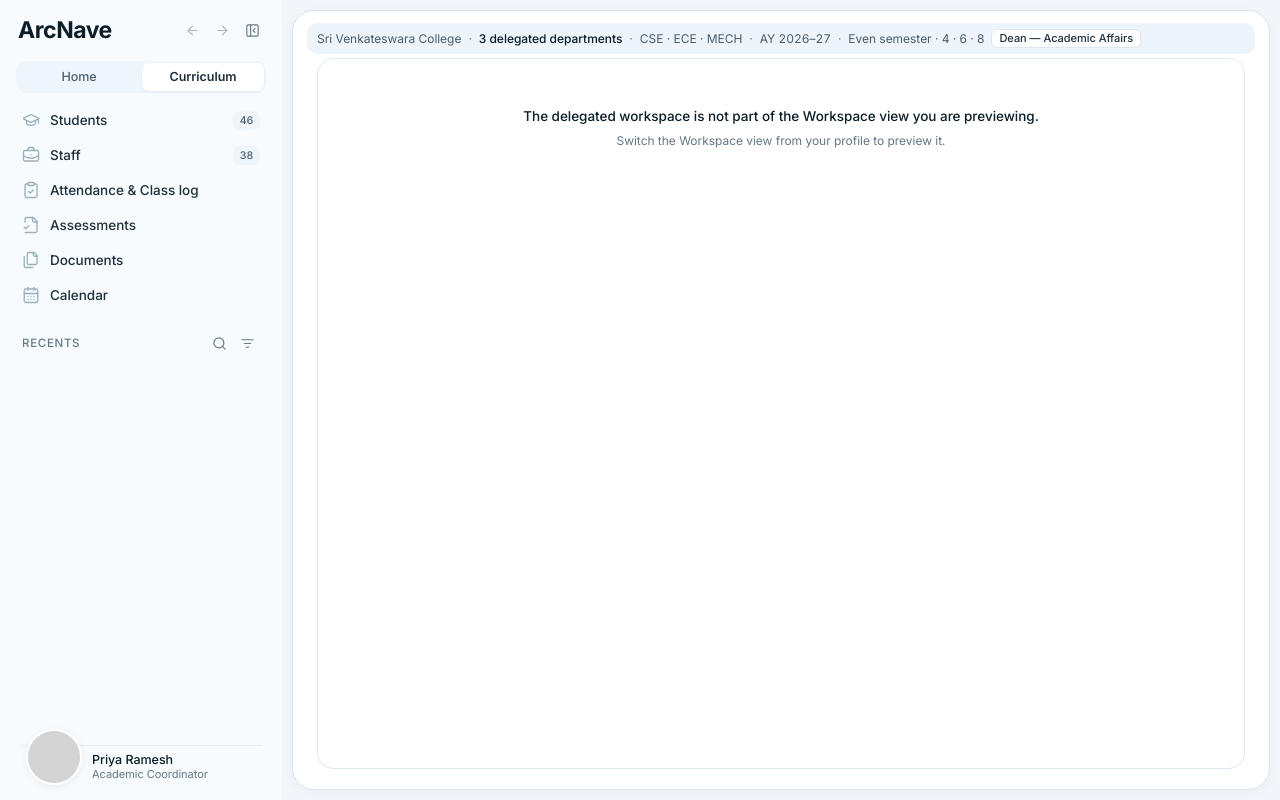
Test: delegated workspace › lists the configured work areas and nothing else
Click the button with aria-label "open profile" at (141, 767), box x1=20 y1=746 x2=262 y2=788
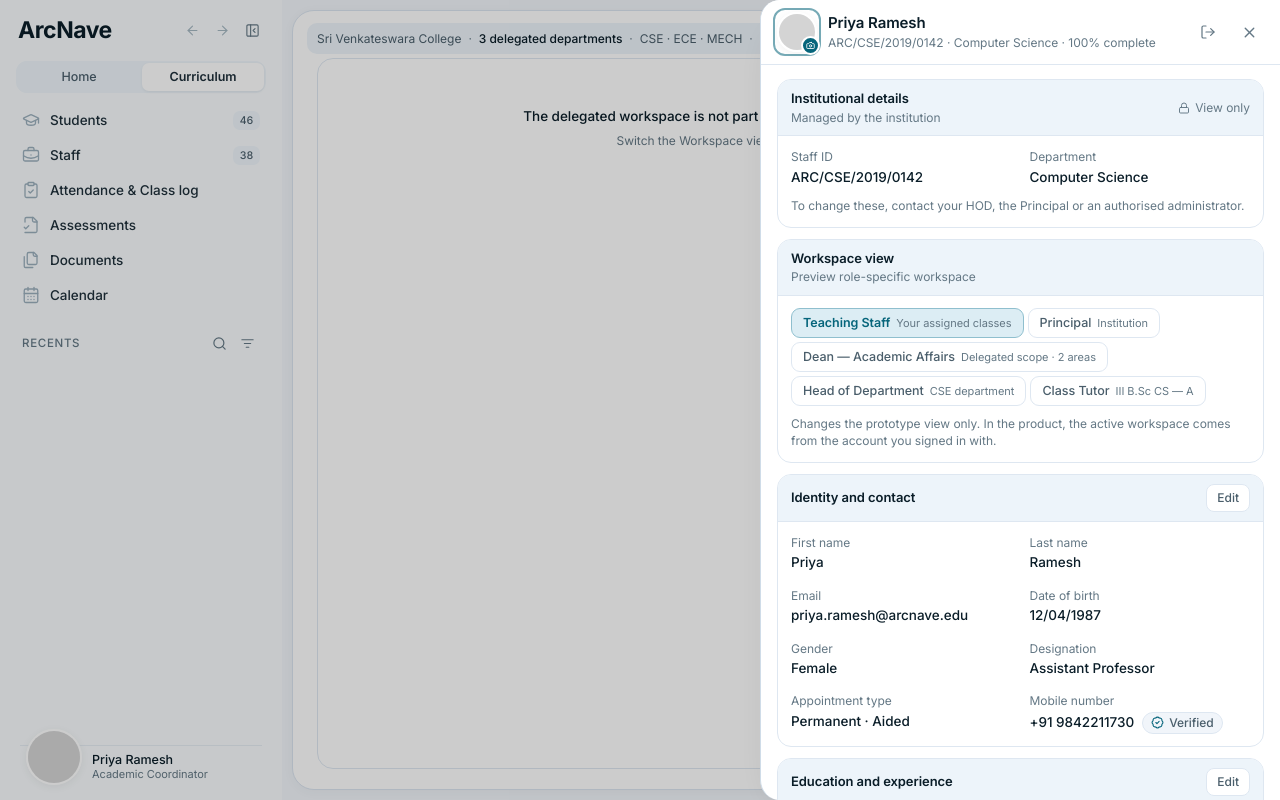
Click the radio button labelled "Dean — Academic Affairs" at (950, 357), box x1=791 y1=342 x2=1108 y2=372
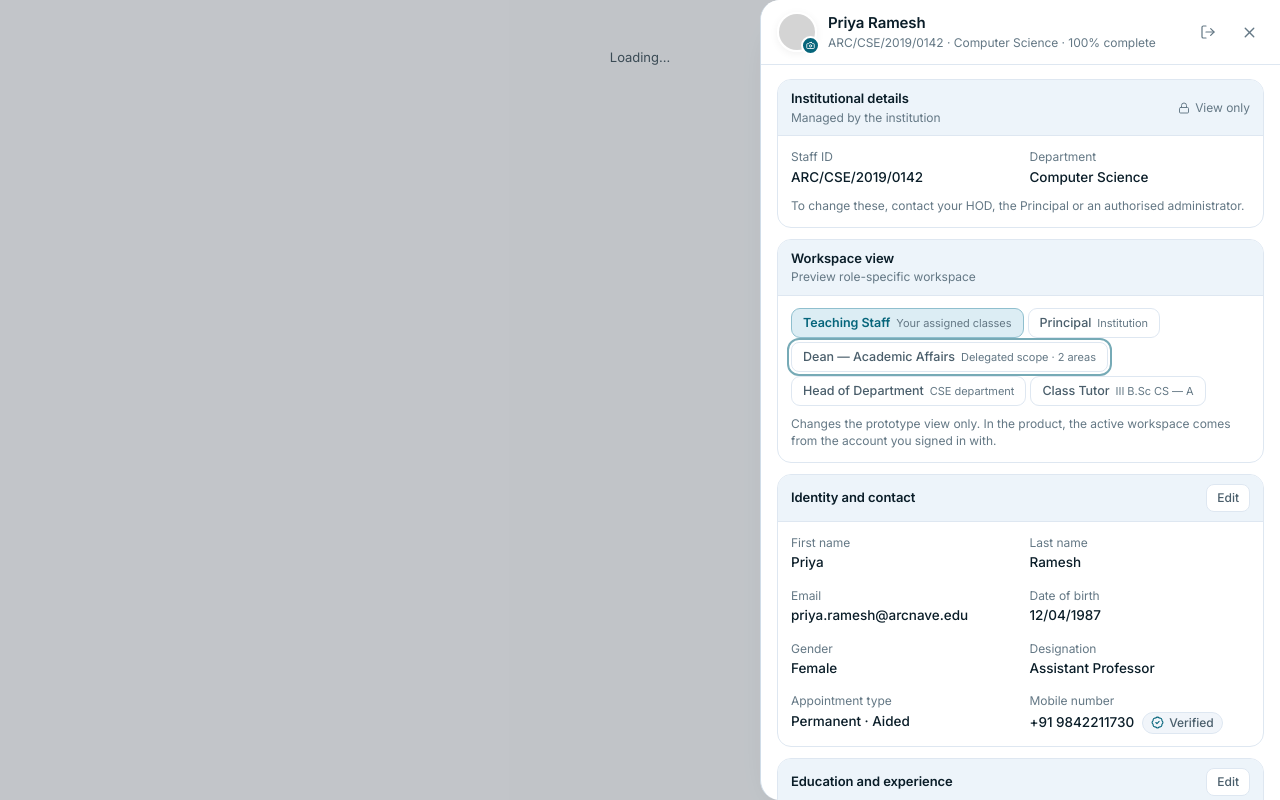
Press Escape
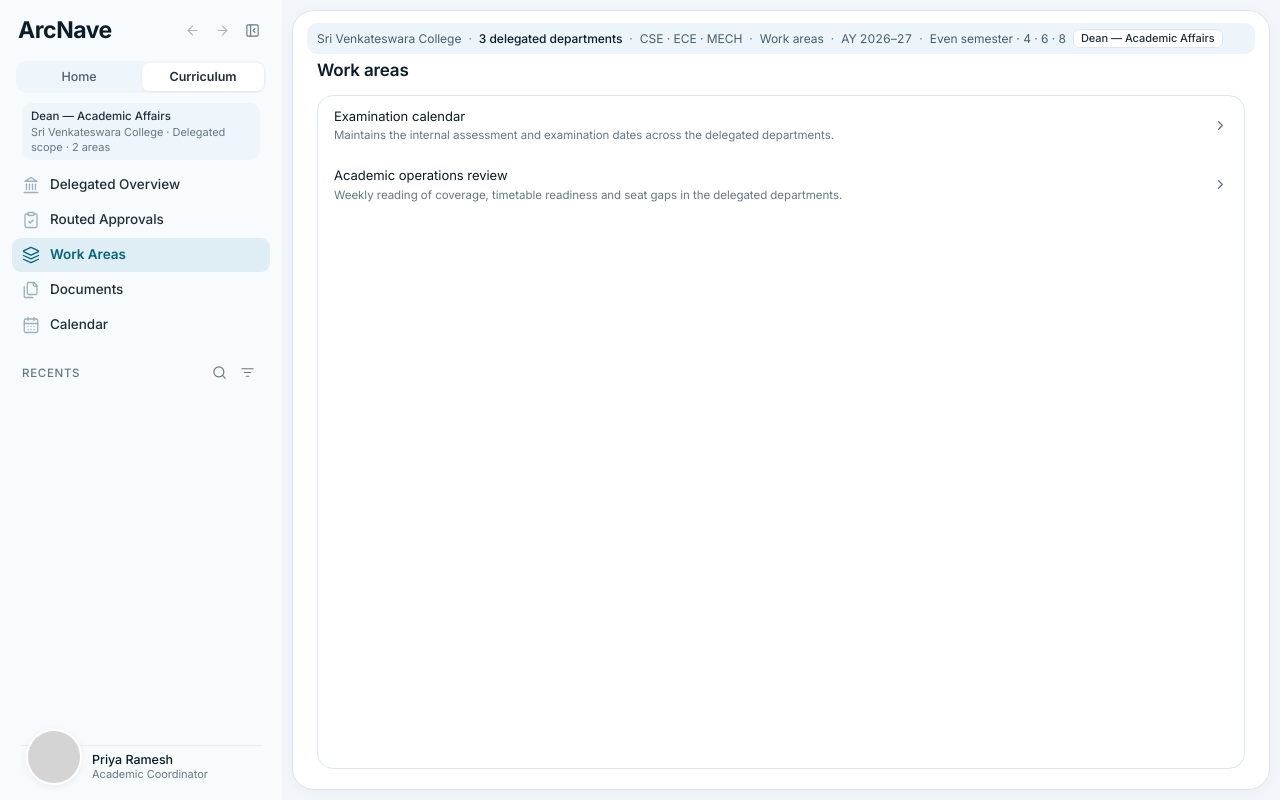
Now the text "Examination calendar" is shown, box x1=334 y1=108 x2=465 y2=124
Now the text "Academic operations review" is shown, box x1=334 y1=167 x2=508 y2=183
